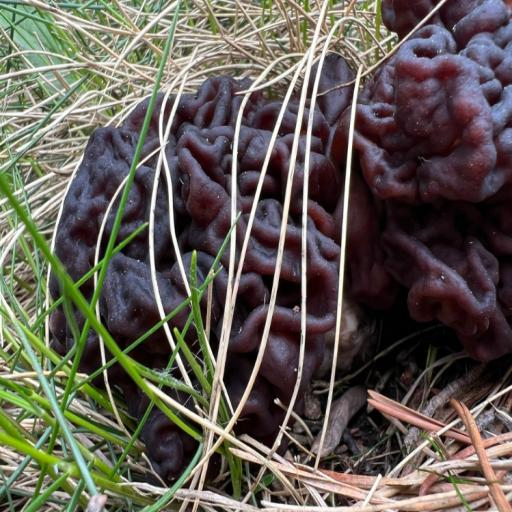False Morel: (15, 0, 512, 463)
